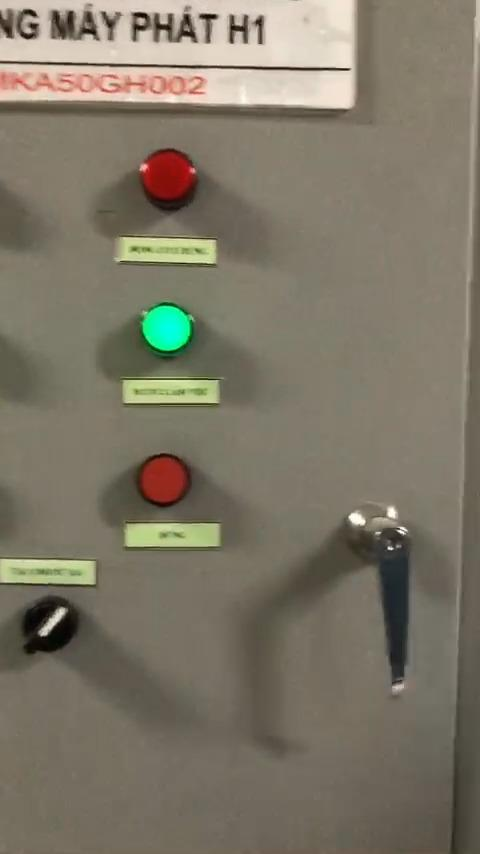led: (138, 151, 194, 206), (134, 299, 190, 354), (133, 453, 188, 505)
twist: (17, 595, 82, 654)
